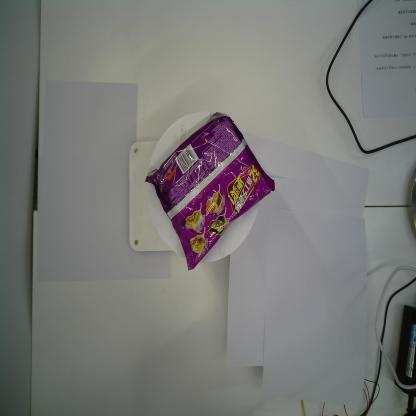Instant Noodles: (143, 109, 276, 271)
